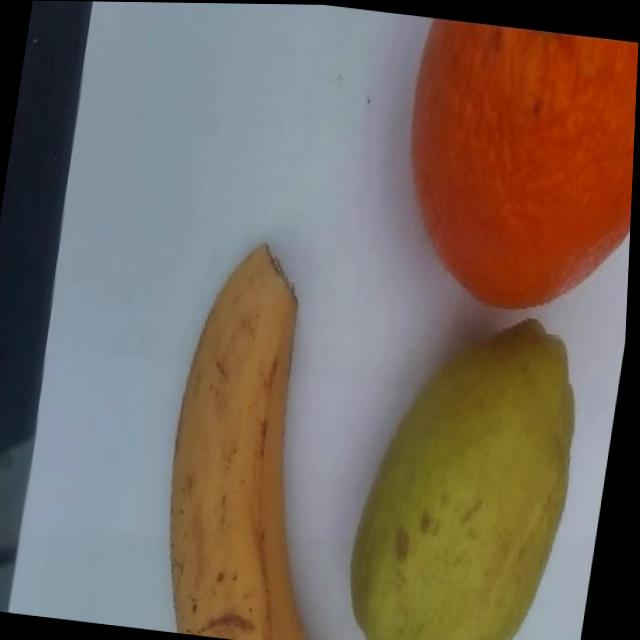Banana: (155, 227, 369, 640)
Orange: (377, 13, 640, 326)
